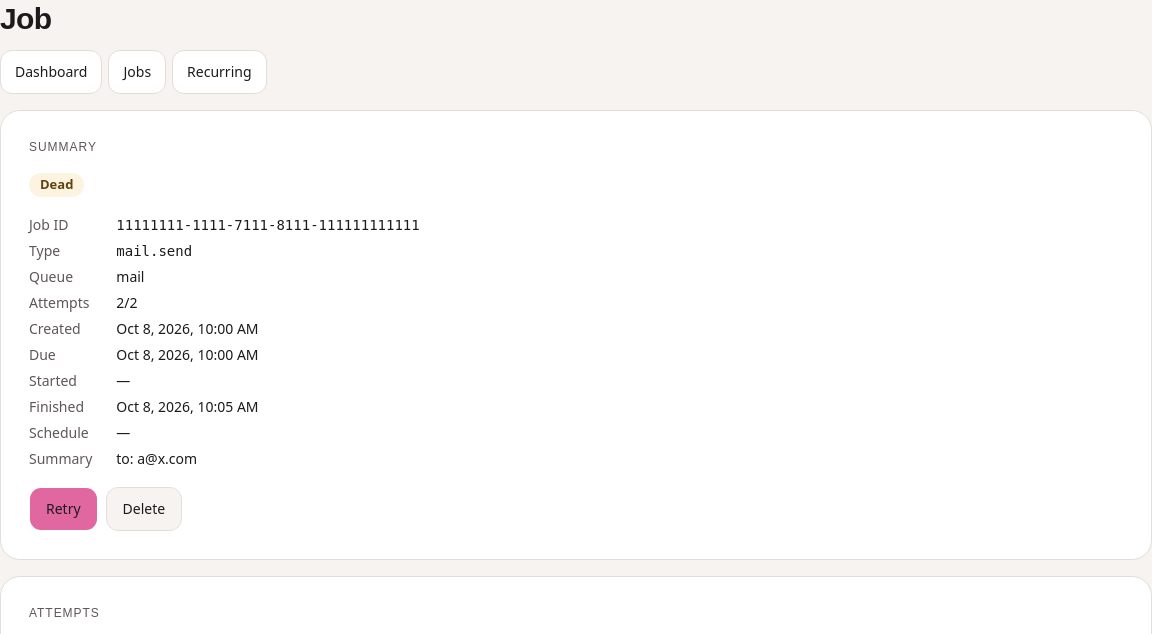
Scenario: refetches the job after a 409 so the actions update
This screenshot has width=1152, height=634.
Click the button "Delete" at (144, 508), box [106, 486, 182, 530]
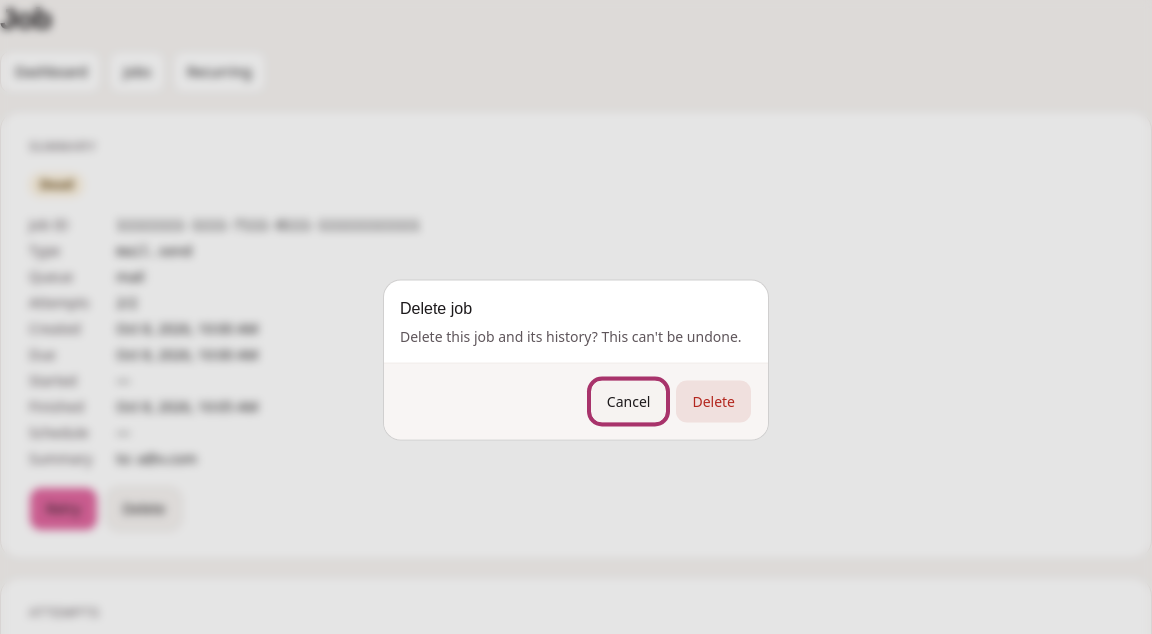
Click the button "Delete" at (714, 402), box [675, 380, 752, 424]
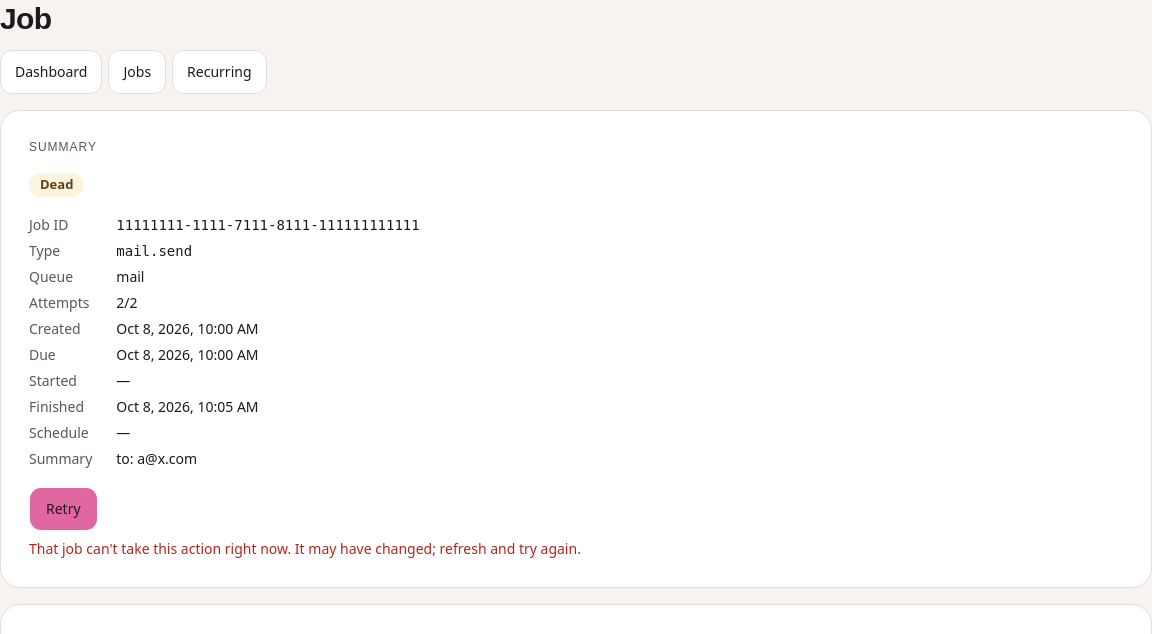
Expected: the message is shown, [29, 538, 581, 558]
Expected: the button "Delete" is gone
